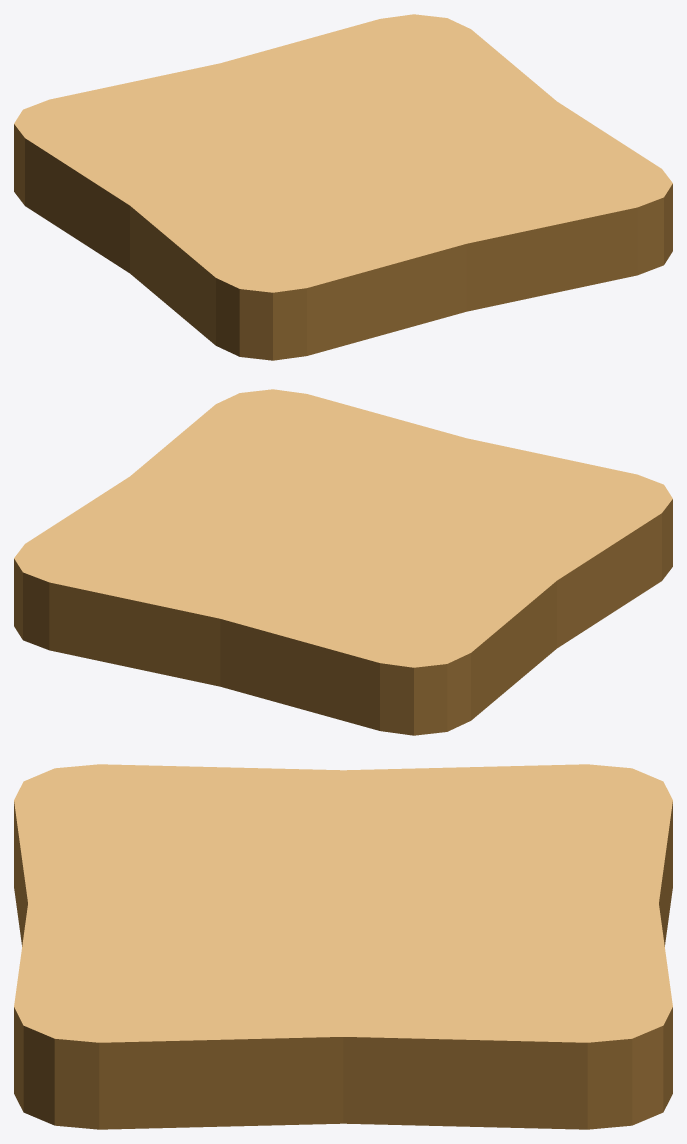
Rendered from Food_CheeseSlice_3.fbx.
The picture shows the model from 3 angles, top to bottom: view 1: azimuth 30°, elevation 25°; view 2: azimuth 150°, elevation 25°; view 3: azimuth 270°, elevation 25°; orthographic projection. The views are drawn at different scales.
Parts seen in each view (by area): view 1: Food_CheeseSlice 3; view 2: Food_CheeseSlice 3; view 3: Food_CheeseSlice 3.
Part boxes in pixels (left/top/right/bottom): Food_CheeseSlice 3: left=14, top=14, right=672, bottom=360; Food_CheeseSlice 3: left=14, top=389, right=672, bottom=735; Food_CheeseSlice 3: left=14, top=764, right=672, bottom=1129.
Bounding box in the file's own units: 17.81 × 2.59 × 17.81.
